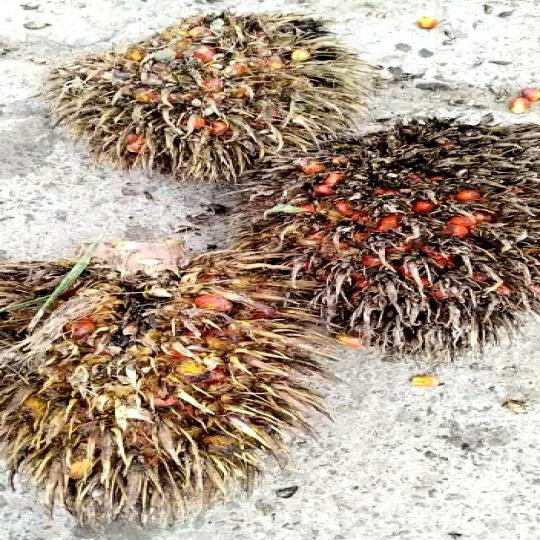terlalu masak: (0, 258, 319, 528), (199, 114, 540, 366), (46, 3, 374, 186)
